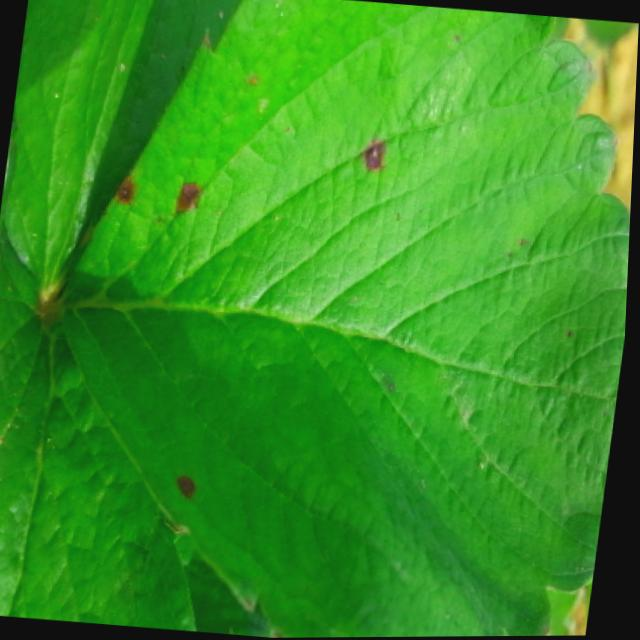Leaf Spot: (58, 0, 632, 638), (0, 172, 199, 631)
